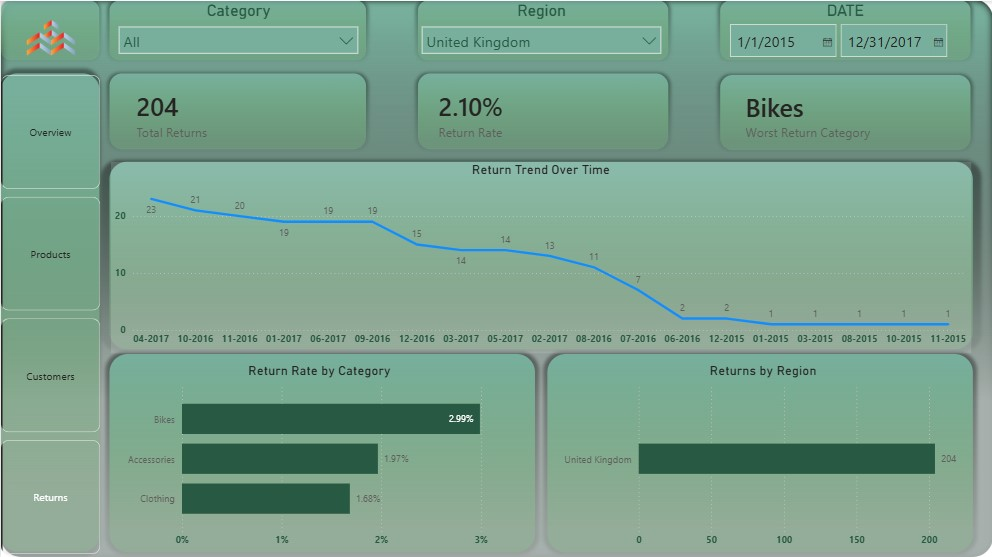

This screenshot's page, from the dashboard's own definition file:
{"tool":"powerbi","page":{"name":"Returns","canvas":[1280,720],"ordinal":3},"visuals":[{"type":"cardVisual","fields":{"Data":["Measure.Total Returns"]},"box":[141.7,95,330,101.7],"z":1000},{"type":"cardVisual","fields":{"Data":["Measure.Return Rate"]},"box":[531.7,96.7,330,100],"z":2000},{"type":"slicer","title":"Category","fields":{"Values":["AdventureWorks_Product_Categori.CategoryName"]},"box":[142.1,0,329.2,80.1],"z":3000},{"type":"slicer","title":"DATE","fields":{"Values":["Date.Date"]},"box":[928.3,0,323.3,80],"z":4000},{"type":"slicer","title":"Region","fields":{"Values":["AdventureWorks_Territories.Region"]},"box":[532.4,0,329.2,80.1],"z":5000},{"type":"cardVisual","fields":{"Data":["Measure.Worst Return Category"]},"box":[928.3,98.3,323.3,98.3],"z":6000},{"type":"pageNavigator","box":[0,95,128.3,618.3],"z":7000},{"type":"image","box":[0,0,128.3,95],"z":8000},{"type":"lineChart","title":"Return Trend Over Time","fields":{"Category":["Date.Month & Year"],"Y":["Measure.Total Returns"]},"box":[141.7,208.3,1110,246.7],"z":9000},{"type":"barChart","title":"Return Rate by Category","fields":{"Y":["Measure.Return Rate"],"Category":["AdventureWorks_Product_Categori.CategoryName"]},"box":[153.7,467.2,514.9,246.3],"z":10000},{"type":"barChart","title":"Returns by Region","fields":{"Category":["AdventureWorks_Territories.Region"],"Y":["Measure.Total Returns"]},"box":[714.9,467.2,537.3,246.3],"z":11000}]}

Visuals, with their boxes in screenshot pixels (x1, y1, x2, y2), scaled from the page's 1280x720 canvas onto the 992x557 screenshot:
cardVisual - Measure.Total Returns: Rect(110, 73, 366, 152)
cardVisual - Measure.Return Rate: Rect(412, 75, 668, 152)
"Category" slicer: Rect(110, 0, 365, 62)
"DATE" slicer: Rect(719, 0, 970, 62)
"Region" slicer: Rect(413, 0, 668, 62)
cardVisual - Measure.Worst Return Category: Rect(719, 76, 970, 152)
pageNavigator: Rect(0, 73, 99, 552)
image: Rect(0, 0, 99, 73)
"Return Trend Over Time" lineChart: Rect(110, 161, 970, 352)
"Return Rate by Category" barChart: Rect(119, 361, 518, 552)
"Returns by Region" barChart: Rect(554, 361, 970, 552)
